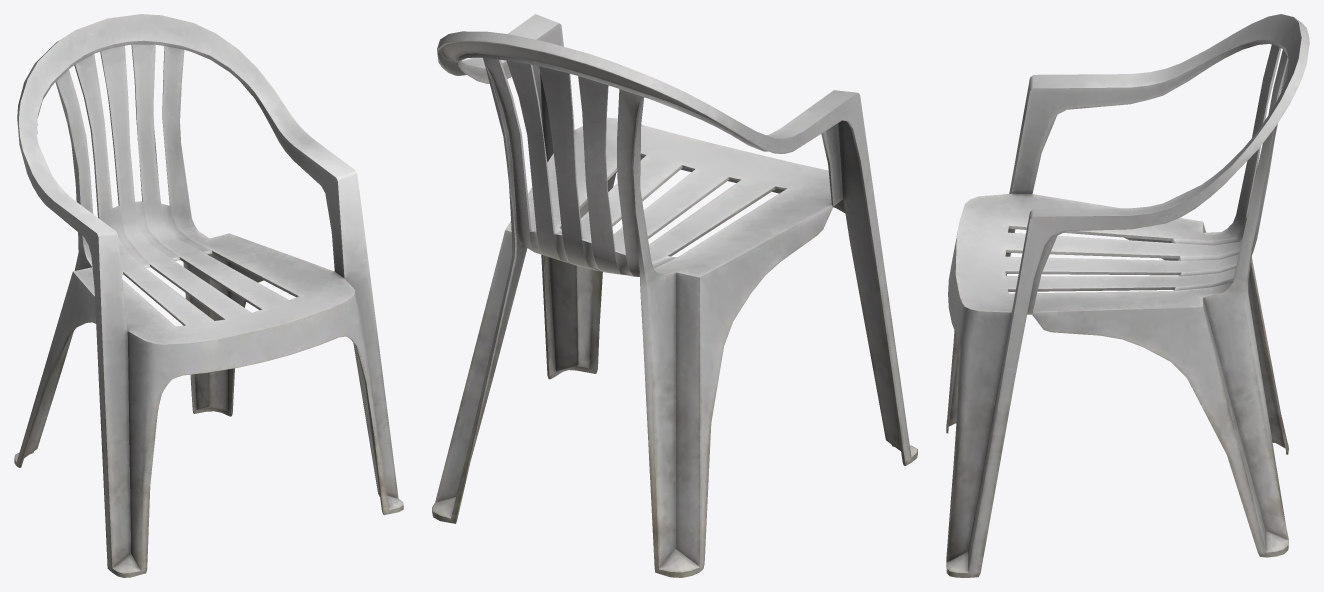
The model's file is plastic_monobloc_chair_01.glb.
3 renders of one model, left to right at view 1: azimuth 30°, elevation 25°; view 2: azimuth 150°, elevation 25°; view 3: azimuth 270°, elevation 25°, orthographic. The views are drawn at different scales.
Parts seen in each view (by area): view 1: plastic_monobloc_chair_01; view 2: plastic_monobloc_chair_01; view 3: plastic_monobloc_chair_01.
Boxes of the visible parts, left/top/right/bottom form: plastic_monobloc_chair_01: left=14, top=14, right=403, bottom=577; plastic_monobloc_chair_01: left=432, top=14, right=917, bottom=577; plastic_monobloc_chair_01: left=946, top=14, right=1309, bottom=577.
Size of the model in its own units: 0.6419 by 0.8798 by 0.6276.
Materials: 1 (1 with a texture image).
